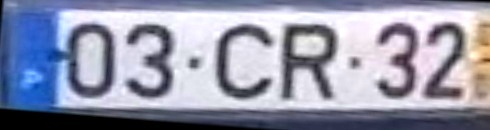0: (62, 20, 119, 103)
2: (421, 19, 473, 104)
3: (120, 21, 178, 103), (371, 20, 424, 103)
C: (212, 20, 279, 105)
R: (276, 22, 343, 106)
